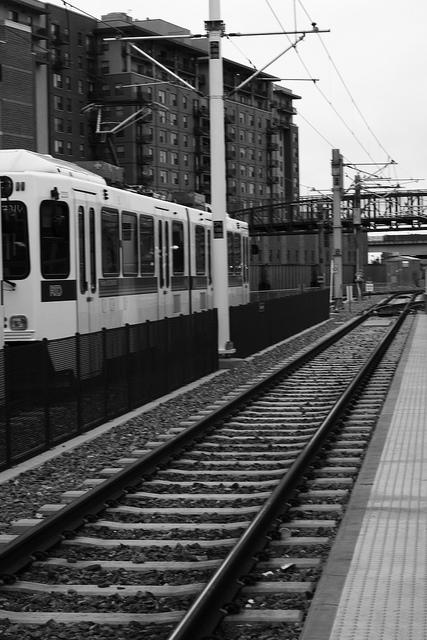Train: (3, 150, 251, 347)
